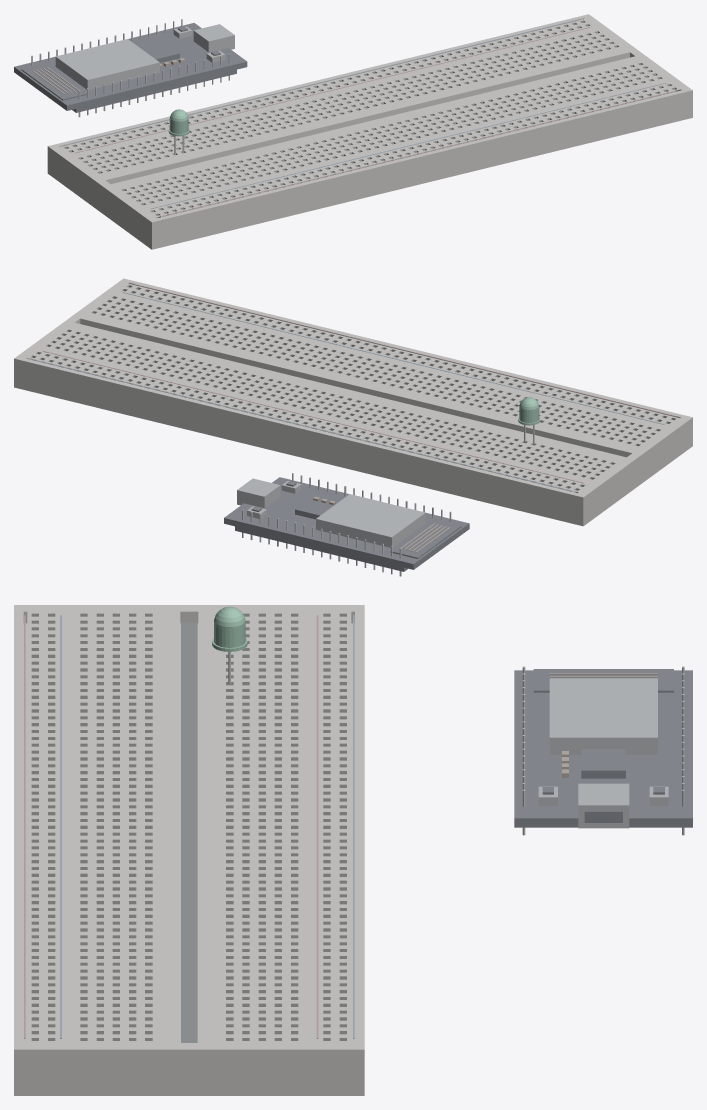
The model's file is step-2.glb.
The picture shows the model from 3 angles, top to bottom: view 1: azimuth 30°, elevation 25°; view 2: azimuth 150°, elevation 25°; view 3: azimuth 270°, elevation 25°; orthographic projection. The views are drawn at different scales.
Visible parts, largest first — view 1: breadboard__mesh, uno__mesh, green_led__mesh; view 2: breadboard__mesh, uno__mesh, green_led__mesh; view 3: breadboard__mesh, uno__mesh, green_led__mesh.
Boxes of the visible parts, box(x1,y1,x2,y2) form: breadboard__mesh: box(47, 14, 692, 249); uno__mesh: box(14, 19, 247, 117); green_led__mesh: box(168, 109, 189, 154); breadboard__mesh: box(14, 278, 692, 526); uno__mesh: box(224, 473, 469, 576); green_led__mesh: box(518, 397, 540, 444); breadboard__mesh: box(14, 605, 364, 1095); uno__mesh: box(514, 666, 692, 835); green_led__mesh: box(212, 606, 247, 684).
Bounding box in the file's own units: 0.165 × 0.0205 × 0.1065.
